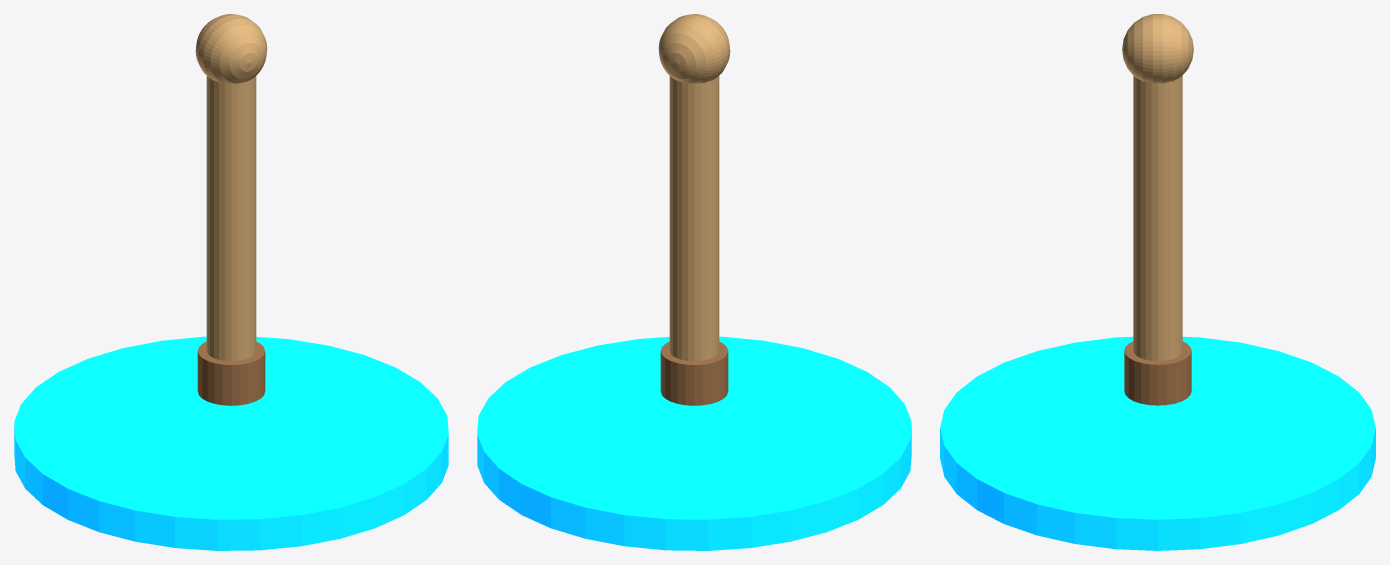
File: sports_baseball_bat.glb
3 renders of one model, left to right at view 1: azimuth 30°, elevation 25°; view 2: azimuth 150°, elevation 25°; view 3: azimuth 270°, elevation 25°, orthographic.
Parts seen in each view (by area): view 1: 04_13_Popular_Sports_Baseball_Bat_ROOT_base, 04_13_Popular_Sports_Baseball_Bat_part_01, 04_13_Popular_Sports_Baseball_Bat_part_02, 04_13_Popular_Sports_Baseball_Bat_part_03; view 2: 04_13_Popular_Sports_Baseball_Bat_ROOT_base, 04_13_Popular_Sports_Baseball_Bat_part_01, 04_13_Popular_Sports_Baseball_Bat_part_02, 04_13_Popular_Sports_Baseball_Bat_part_03; view 3: 04_13_Popular_Sports_Baseball_Bat_ROOT_base, 04_13_Popular_Sports_Baseball_Bat_part_01, 04_13_Popular_Sports_Baseball_Bat_part_02, 04_13_Popular_Sports_Baseball_Bat_part_03.
Part boxes in pixels (left/top/right/bottom): 04_13_Popular_Sports_Baseball_Bat_ROOT_base: left=14, top=336, right=448, bottom=550; 04_13_Popular_Sports_Baseball_Bat_part_01: left=206, top=76, right=256, bottom=361; 04_13_Popular_Sports_Baseball_Bat_part_02: left=195, top=14, right=267, bottom=83; 04_13_Popular_Sports_Baseball_Bat_part_03: left=197, top=341, right=265, bottom=405; 04_13_Popular_Sports_Baseball_Bat_ROOT_base: left=477, top=336, right=911, bottom=550; 04_13_Popular_Sports_Baseball_Bat_part_01: left=669, top=76, right=719, bottom=361; 04_13_Popular_Sports_Baseball_Bat_part_02: left=658, top=14, right=730, bottom=83; 04_13_Popular_Sports_Baseball_Bat_part_03: left=660, top=341, right=728, bottom=405; 04_13_Popular_Sports_Baseball_Bat_ROOT_base: left=940, top=336, right=1375, bottom=550; 04_13_Popular_Sports_Baseball_Bat_part_01: left=1133, top=76, right=1182, bottom=360; 04_13_Popular_Sports_Baseball_Bat_part_02: left=1122, top=14, right=1193, bottom=83; 04_13_Popular_Sports_Baseball_Bat_part_03: left=1124, top=341, right=1191, bottom=405.
Bounding box in the file's own units: 0.76 × 0.85 × 0.76.
